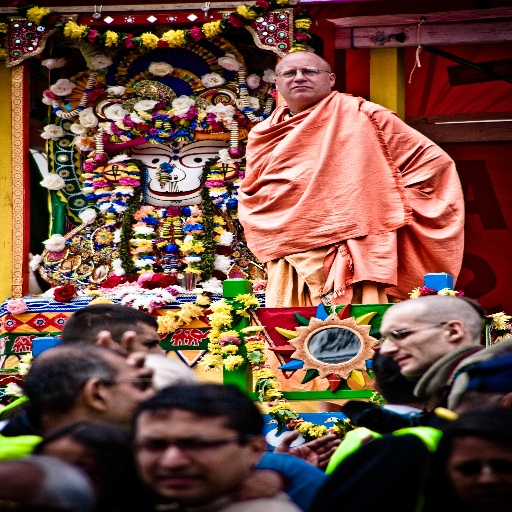hand: (85, 328, 153, 390), (273, 428, 342, 470), (236, 468, 286, 500)
